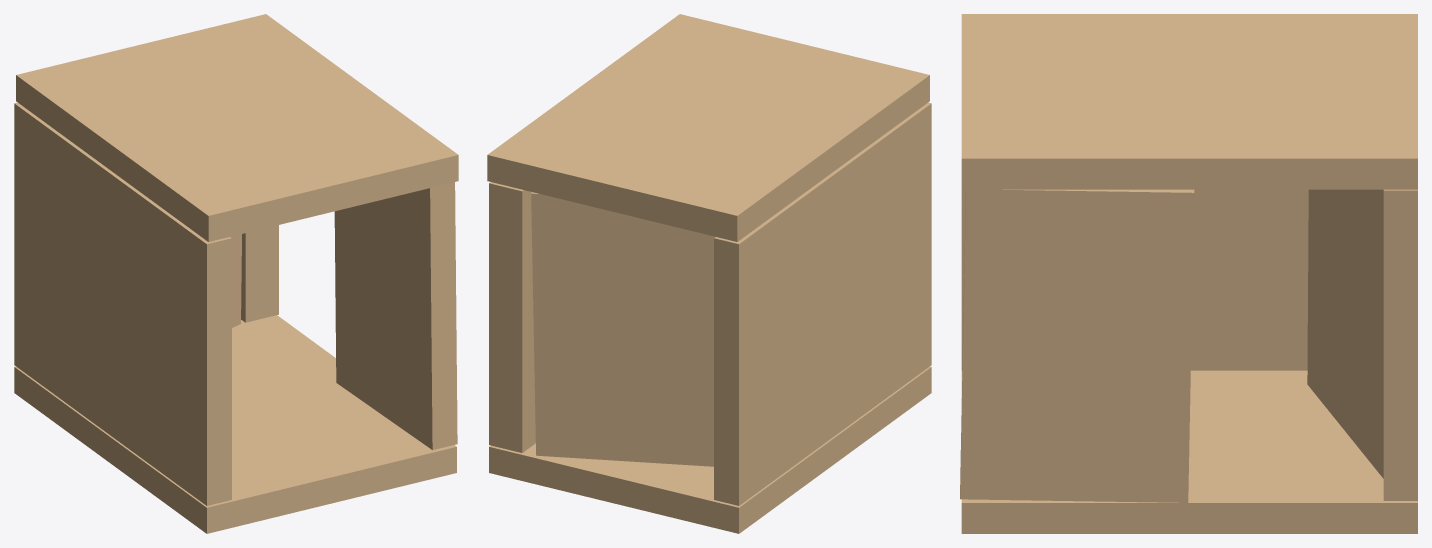
The model's file is tinker.obj.
3 renders of one model, left to right at view 1: azimuth 30°, elevation 25°; view 2: azimuth 150°, elevation 25°; view 3: azimuth 270°, elevation 25°, orthographic. The views are drawn at different scales.
Parts seen in each view (by area): view 1: obj_0; view 2: obj_0; view 3: obj_0.
Part boxes in pixels (x1=…): obj_0: x1=14, y1=14, x2=458, y2=533; obj_0: x1=487, y1=14, x2=931, y2=533; obj_0: x1=960, y1=14, x2=1417, y2=533.
Bounding box in the file's own units: 151 × 182 × 201.
